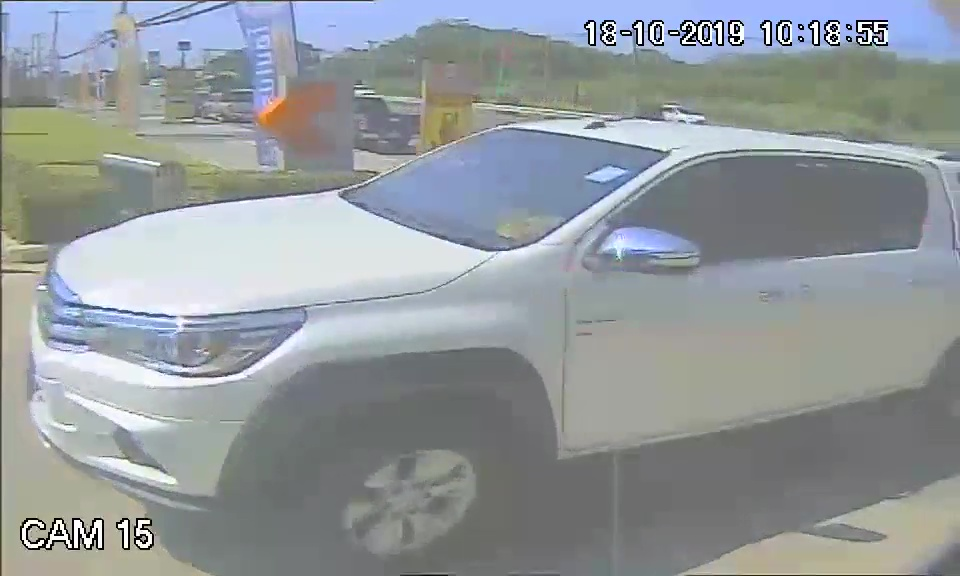pickup: (18, 109, 946, 518)
